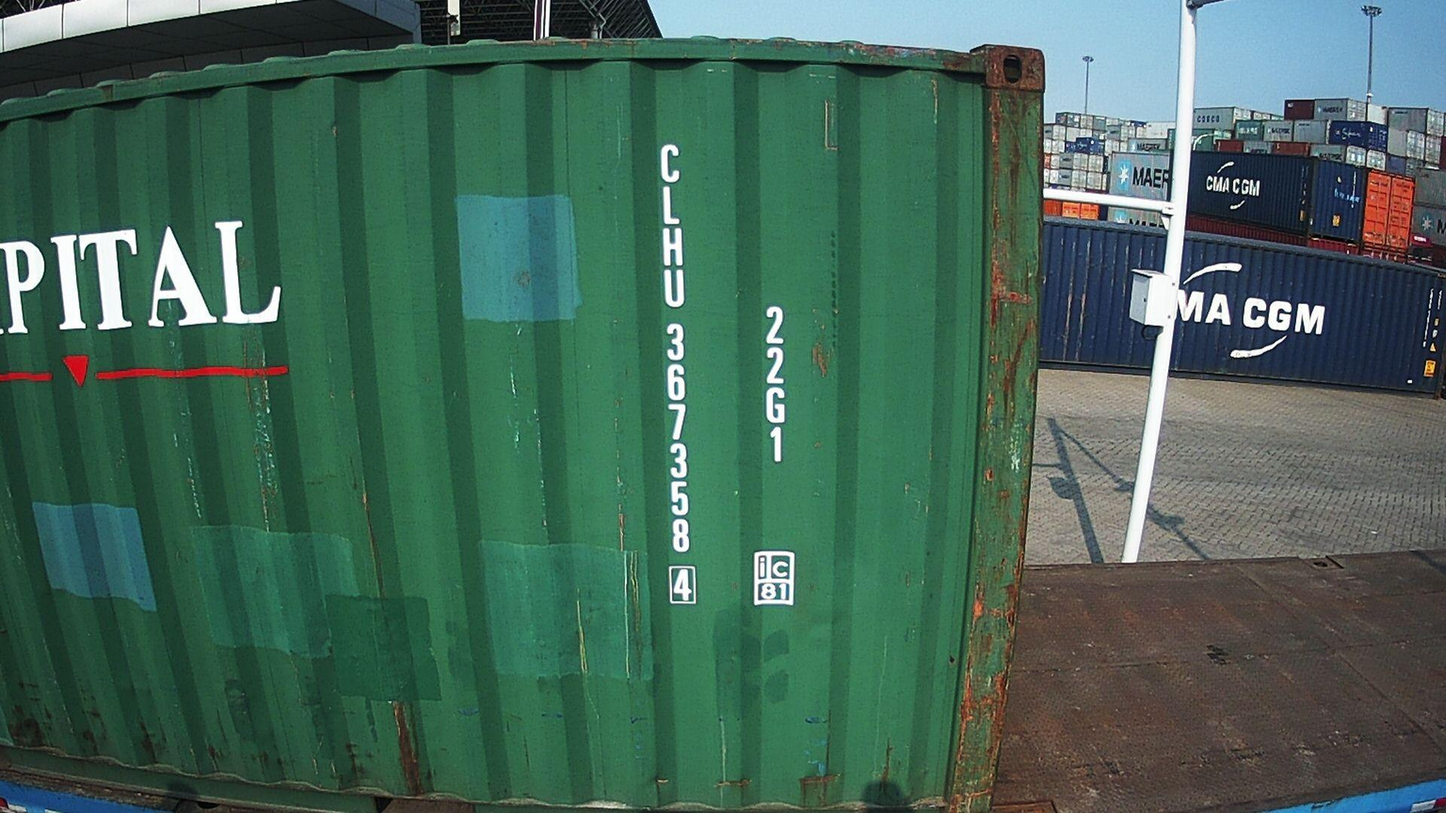container-numbers: (651, 143, 703, 615), (758, 301, 798, 472)
